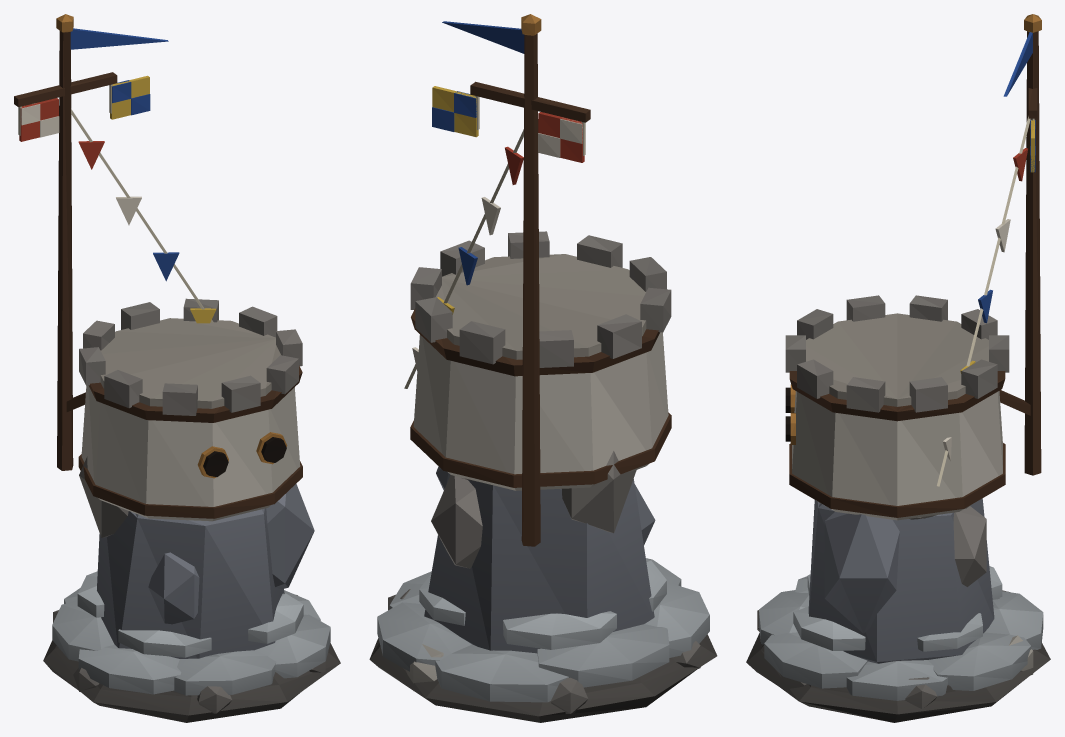
The model's file is owls_eye.glb.
3 renders of one model, left to right at view 1: azimuth 30°, elevation 25°; view 2: azimuth 150°, elevation 25°; view 3: azimuth 270°, elevation 25°, orthographic. The views are drawn at different scales.
Parts seen in each view (by area): view 1: owls_eye; view 2: owls_eye; view 3: owls_eye.
Part boxes in pixels (<box>): owls_eye: <box>14,14,340,722</box>; owls_eye: <box>369,14,717,722</box>; owls_eye: <box>746,14,1050,722</box>.
Bounding box in the file's own units: 0.8711 × 2.02 × 0.9001.
